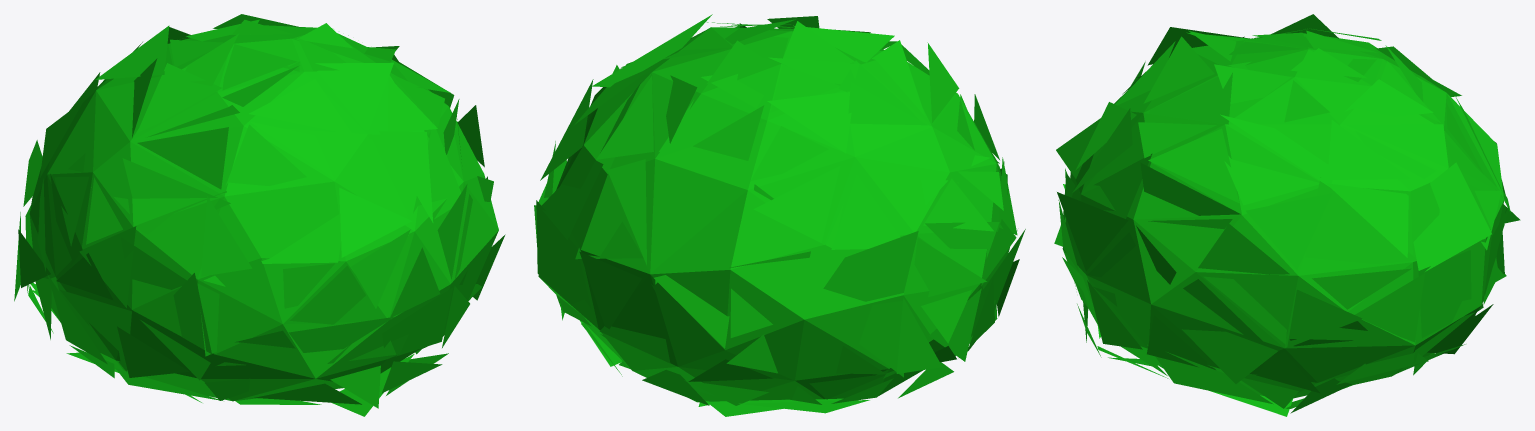
Rendered from bush_A_03.fbx.
The picture shows the model from 3 angles, left to right: view 1: azimuth 30°, elevation 25°; view 2: azimuth 150°, elevation 25°; view 3: azimuth 270°, elevation 25°; orthographic projection. The views are drawn at different scales.
Visible parts, largest first — view 1: bush_A_03; view 2: bush_A_03; view 3: bush_A_03.
Part boxes in pixels (x1,y1,x2,y2): bush_A_03: (14,14,505,416); bush_A_03: (534,14,1025,416); bush_A_03: (1054,14,1520,416).
Size of the model in its own units: 112 by 85.05 by 111.
